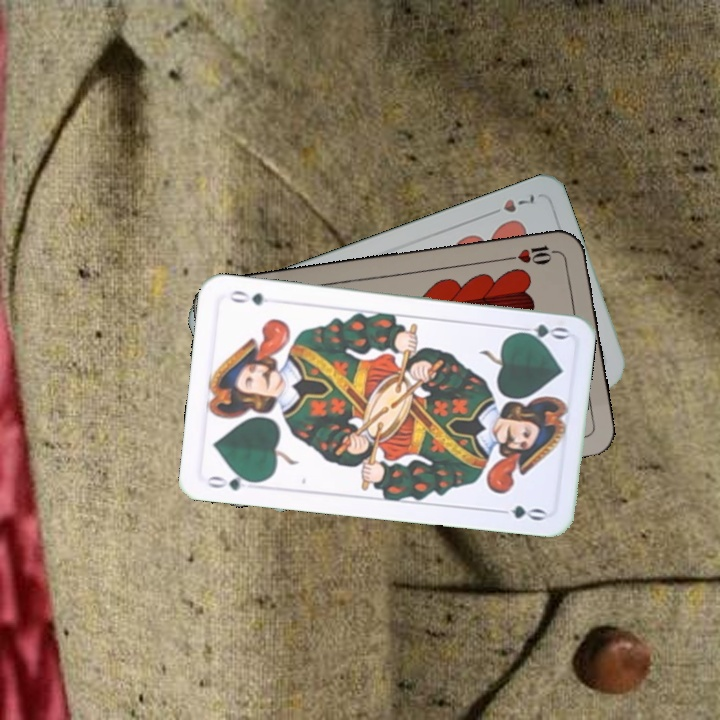GO: (203, 468, 262, 493), (510, 320, 570, 343)
H10: (502, 241, 562, 267)
H7: (483, 190, 539, 218)
